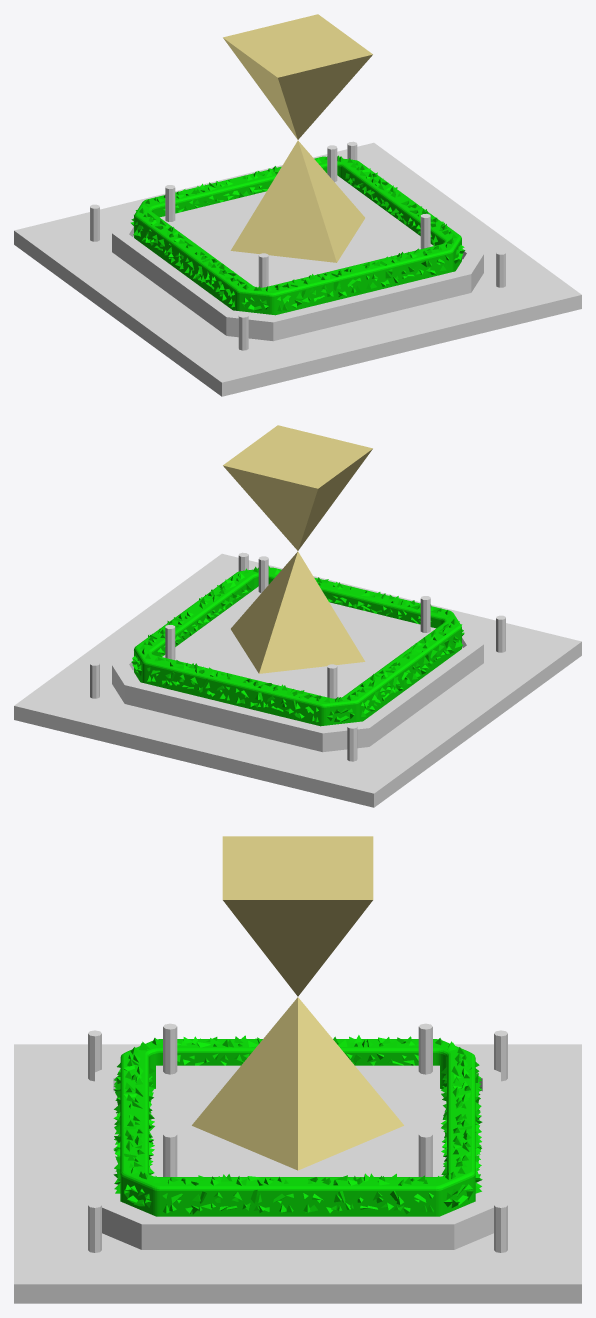
Rendered from Chroma Sculpture.fbx.
3 views of the same model, one above another, from view 1: azimuth 30°, elevation 25°; view 2: azimuth 150°, elevation 25°; view 3: azimuth 270°, elevation 25° (orthographic). The views are drawn at different scales.
Parts seen in each view (by area): view 1: Cube; view 2: Cube; view 3: Cube.
Boxes of the visible parts, box(x1,y1,x2,y2) form: Cube: box(14, 14, 581, 396); Cube: box(14, 425, 581, 807); Cube: box(14, 836, 581, 1303).
Bounding box in the file's own units: 400 × 245 × 400.
